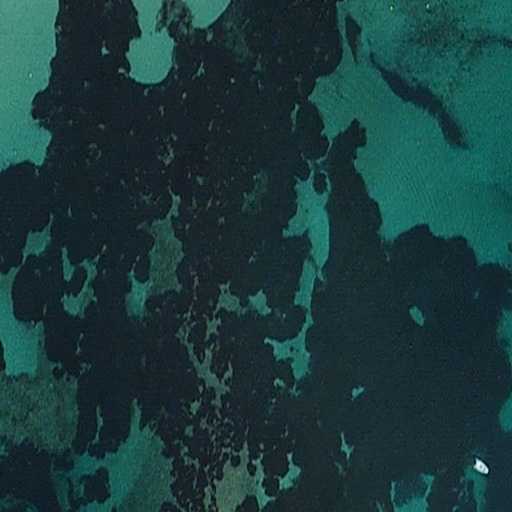ship: (470, 456, 491, 477)
